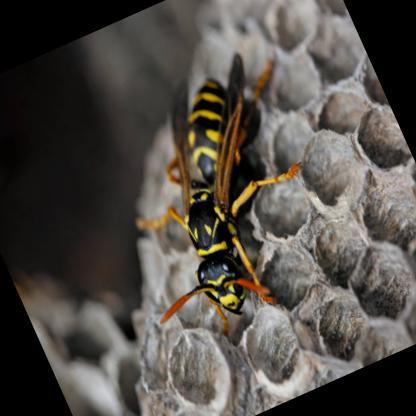other: (76, 43, 360, 358)
